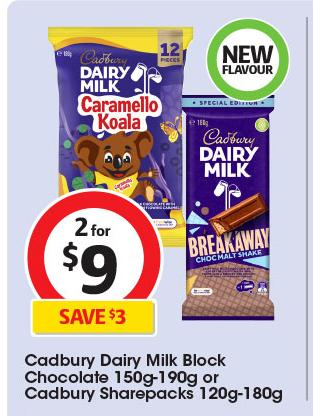description_block: (11, 352, 288, 409)
price_main: (34, 206, 148, 299)
product_image_block: (145, 90, 281, 328)
promo_text_block: (19, 300, 163, 342)
